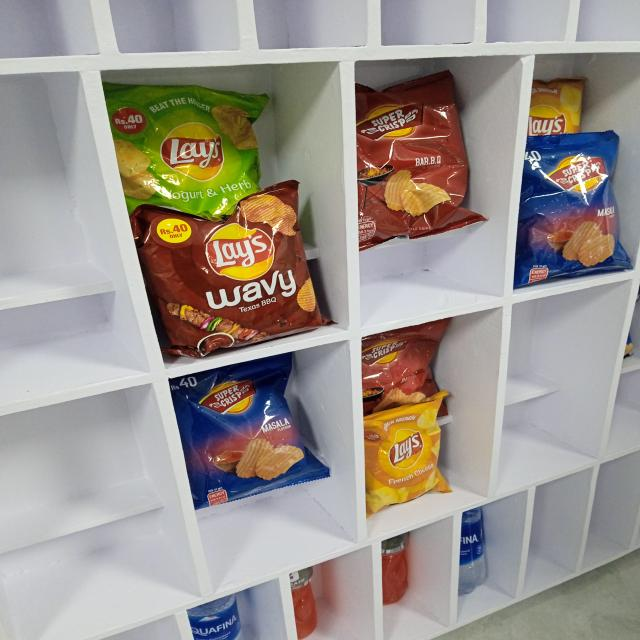Plastic: (146, 206, 330, 348), (170, 370, 326, 496), (355, 83, 476, 242), (106, 84, 264, 198), (515, 140, 628, 283), (369, 410, 441, 504), (363, 329, 443, 403), (532, 78, 580, 140), (287, 566, 324, 640), (189, 597, 244, 640), (462, 514, 486, 596), (380, 537, 408, 605)
